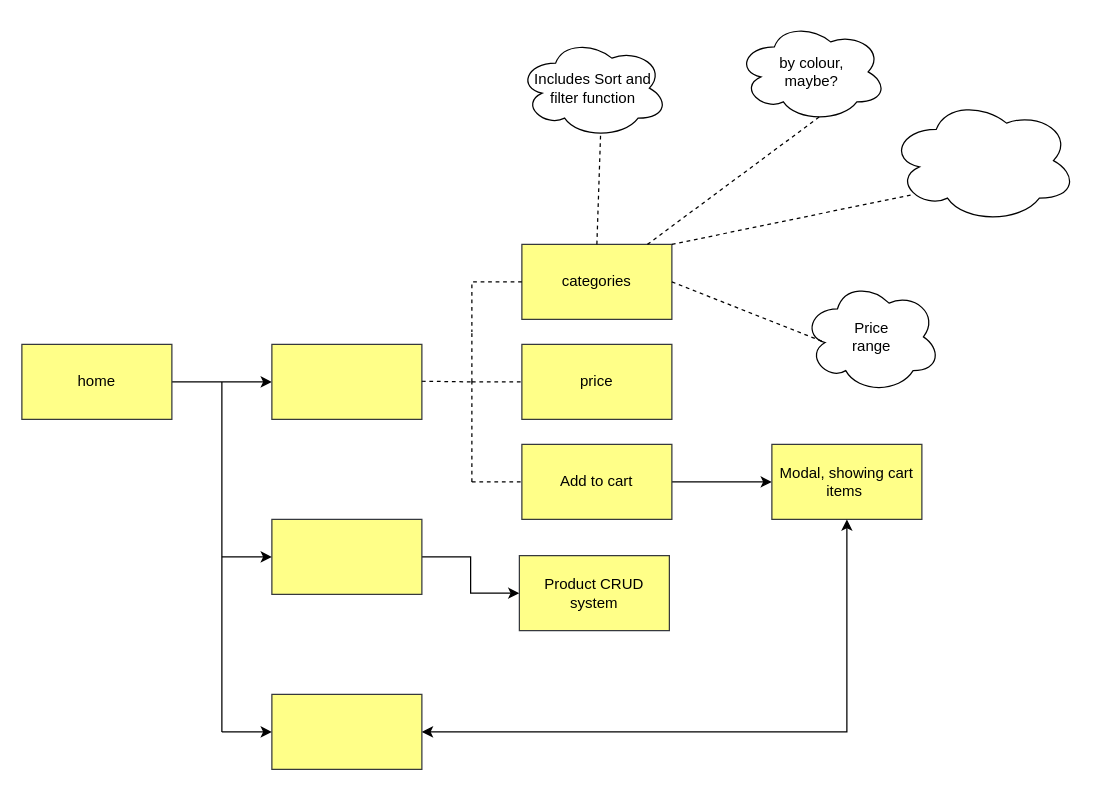
Image size: 1099x791. Some labels were removed from this diagram. The centre of each missing label's shape, as x and y in pixels:
admin: the point at 346,556
by size. small, medium large: the point at 982,160
checkout: the point at 346,731
products: the point at 346,381
